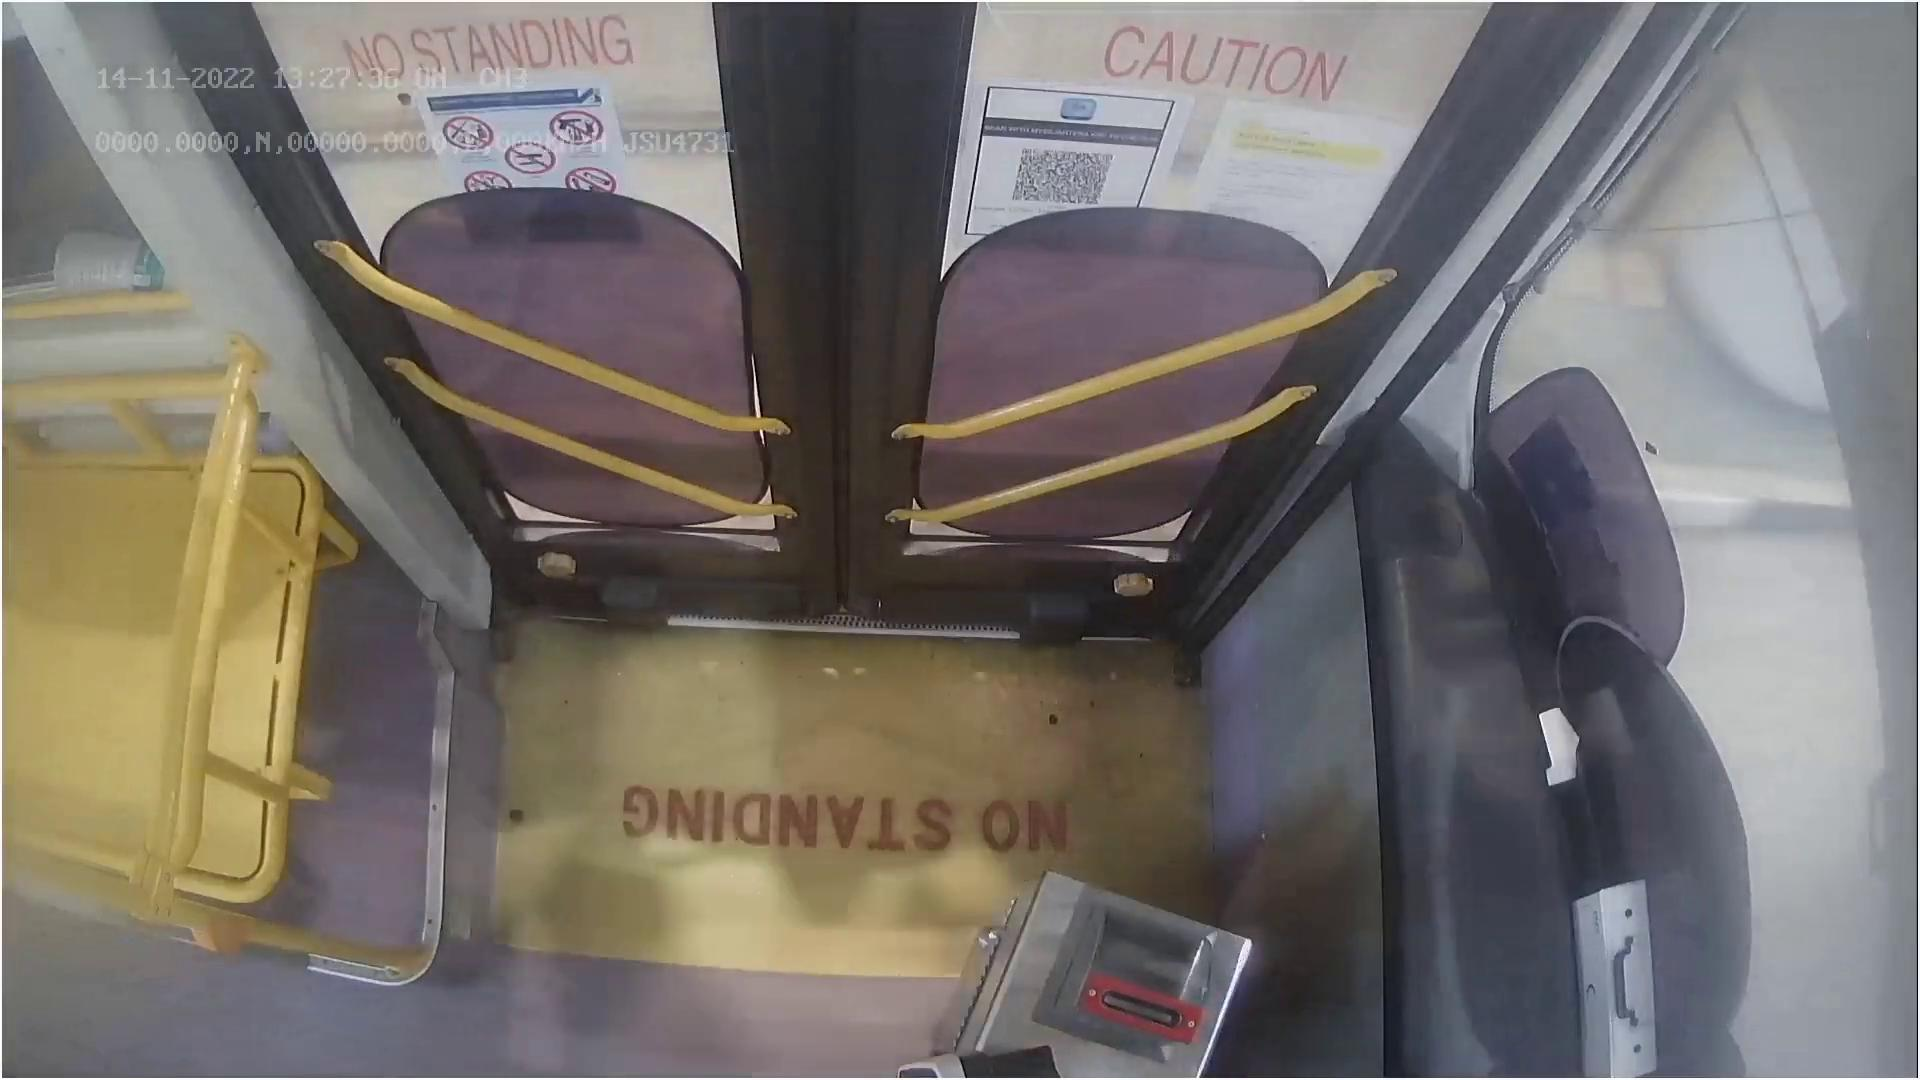close: (286, 0, 1447, 164)
